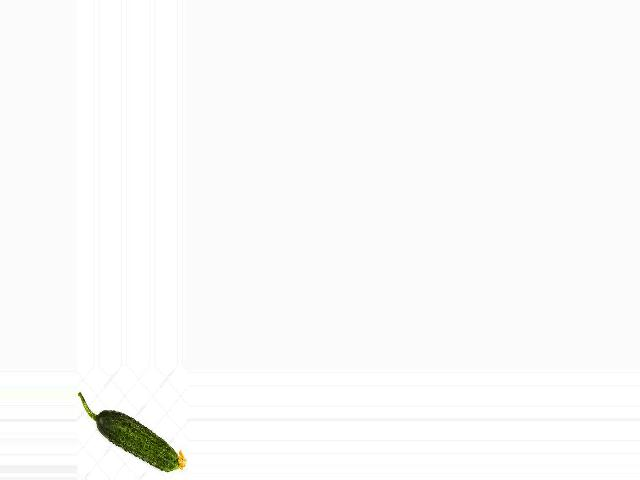cucumber: (78, 392, 187, 472)
